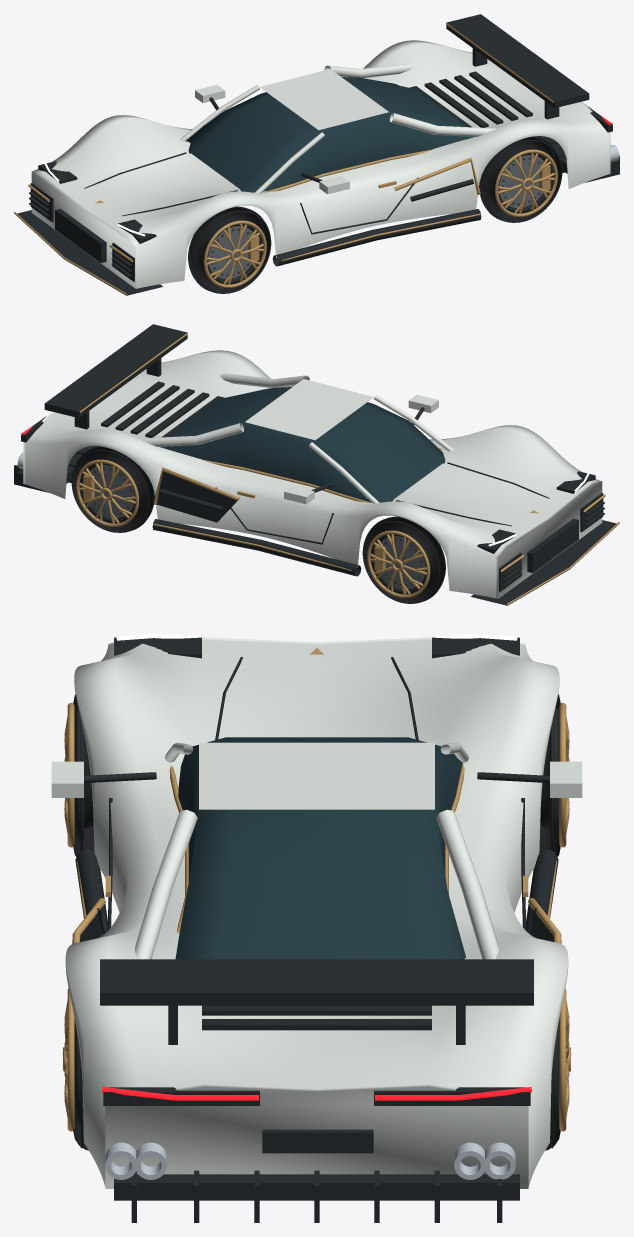
Rendered from car3.glb.
3 renders of one model, top to bottom at view 1: azimuth 30°, elevation 25°; view 2: azimuth 150°, elevation 25°; view 3: azimuth 270°, elevation 25°, orthographic. The views are drawn at different scales.
Parts seen in each view (by area): view 1: AURELIA | Sculpted monocoque coachwork, AURELIA | Deep side intake, AURELIA | Panoramic teardrop canopy, AURELIA | Canopy titanium surround, AURELIA | Sculpted performance tire, AURELIA | Carbon ceramic rotor; view 2: AURELIA | Sculpted monocoque coachwork, AURELIA | Deep side intake, AURELIA | Panoramic teardrop canopy, AURELIA | Canopy titanium surround, AURELIA | Sculpted performance tire, AURELIA | Carbon ceramic rotor; view 3: AURELIA | Sculpted monocoque coachwork, AURELIA | Deep side intake, AURELIA | Panoramic teardrop canopy, AURELIA | Canopy titanium surround, Cylinder.004, Cube.001, AURELIA | Sculpted performance tire, AURELIA | Laser tail ribbon.
Part boxes in pixels (x1=…): AURELIA | Sculpted monocoque coachwork: x1=31, y1=40, x2=610, y2=288; AURELIA | Deep side intake: x1=15, y1=14, x2=619, y2=295; AURELIA | Panoramic teardrop canopy: x1=186, y1=77, x2=474, y2=192; AURELIA | Canopy titanium surround: x1=14, y1=23, x2=557, y2=294; AURELIA | Sculpted performance tire: x1=188, y1=136, x2=560, y2=293; AURELIA | Carbon ceramic rotor: x1=208, y1=155, x2=543, y2=279; AURELIA | Sculpted monocoque coachwork: x1=23, y1=350, x2=602, y2=598; AURELIA | Deep side intake: x1=14, y1=324, x2=618, y2=605; AURELIA | Panoramic teardrop canopy: x1=159, y1=387, x2=445, y2=502; AURELIA | Canopy titanium surround: x1=76, y1=333, x2=619, y2=604; AURELIA | Sculpted performance tire: x1=73, y1=446, x2=445, y2=603; AURELIA | Carbon ceramic rotor: x1=90, y1=465, x2=425, y2=589; AURELIA | Sculpted monocoque coachwork: x1=51, y1=637, x2=582, y2=1188; AURELIA | Deep side intake: x1=62, y1=637, x2=571, y2=1222; AURELIA | Panoramic teardrop canopy: x1=175, y1=737, x2=465, y2=959; AURELIA | Canopy titanium surround: x1=63, y1=648, x2=570, y2=1131; Cylinder.004: x1=105, y1=1142, x2=515, y2=1179; Cube.001: x1=262, y1=1129, x2=373, y2=1153; AURELIA | Sculpted performance tire: x1=73, y1=694, x2=560, y2=1150; AURELIA | Laser tail ribbon: x1=102, y1=1087, x2=531, y2=1100.
Size of the model in its own units: 5.49 by 1.19 by 2.47.
